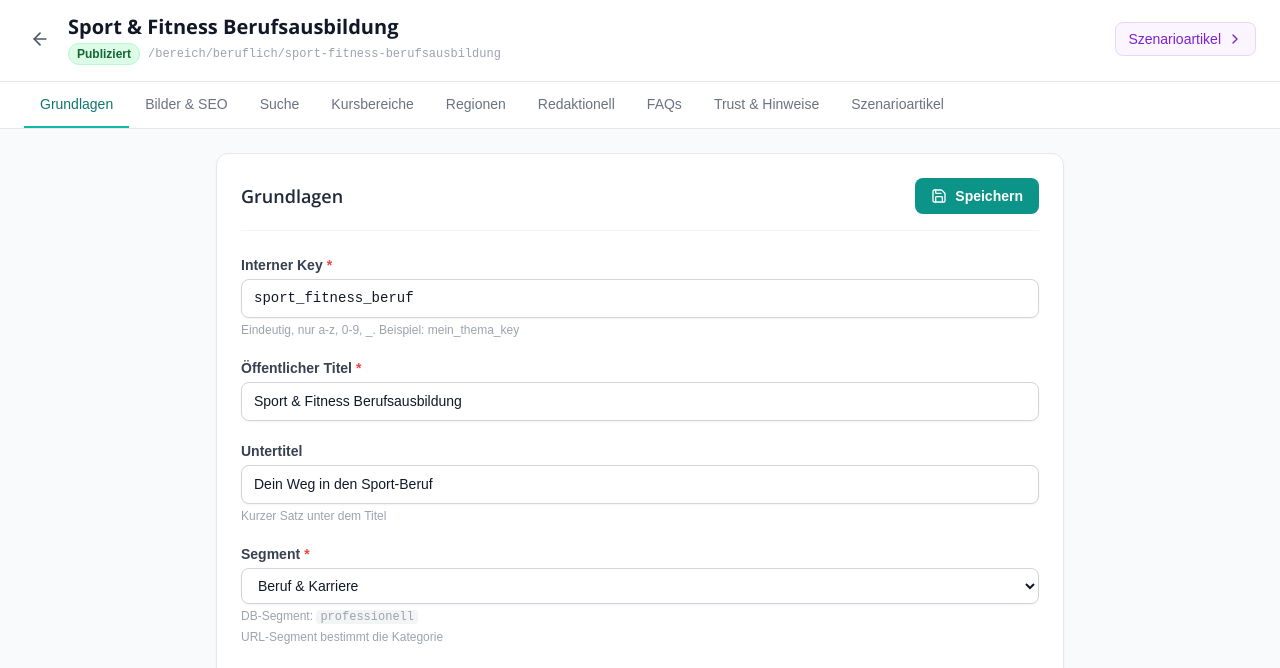
Test: Phase 8.6 — Admin-Editor: predefined_searches › Sport-Daten: predefined_searches werden korrekt geladen
This screenshot has width=1280, height=668.
Click the button "Suche" at [280, 105], box [244,82,315,128]
(page scrolled)
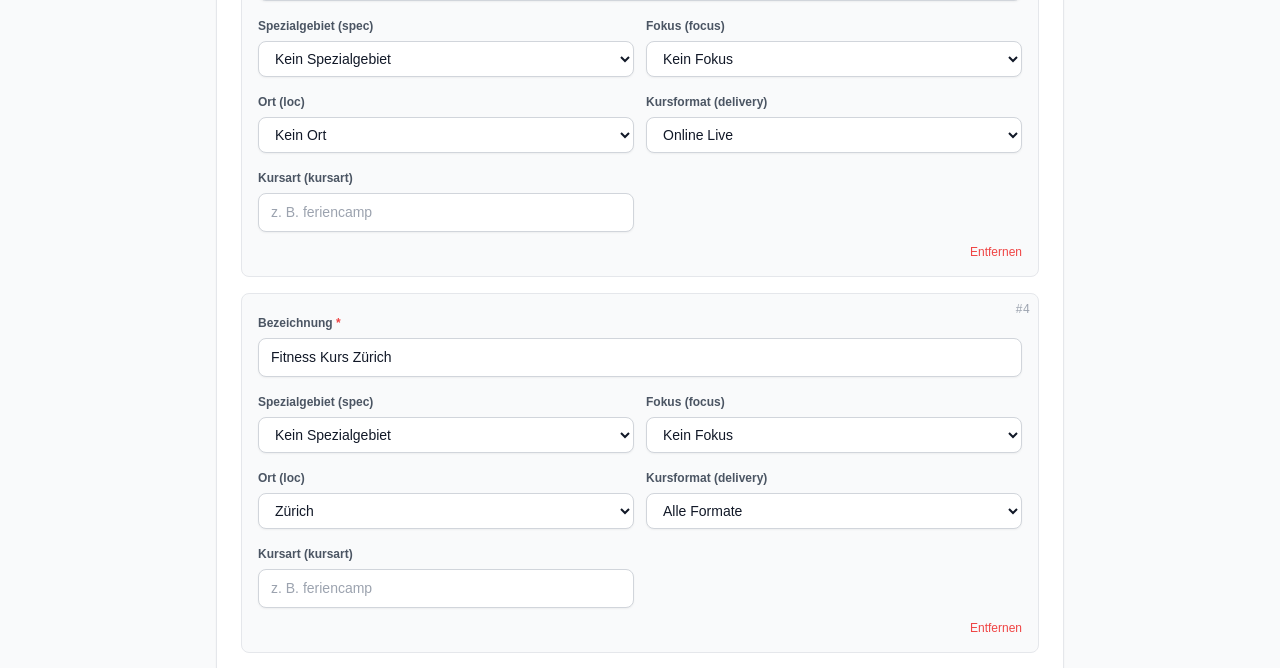
Result: the 2nd field showing "Fitness Kurs Zürich" is shown at [258,338,1022,377]
